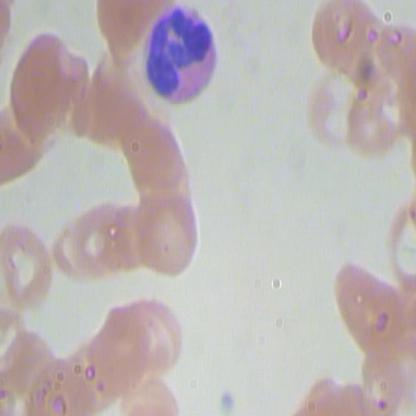Platelets: (214, 383, 242, 415)
RBC: (4, 29, 92, 146), (330, 254, 406, 366), (131, 193, 204, 279), (302, 66, 375, 152), (132, 291, 190, 382), (1, 218, 58, 309), (69, 198, 122, 282), (127, 127, 188, 192)
WBC: (137, 3, 220, 114)
